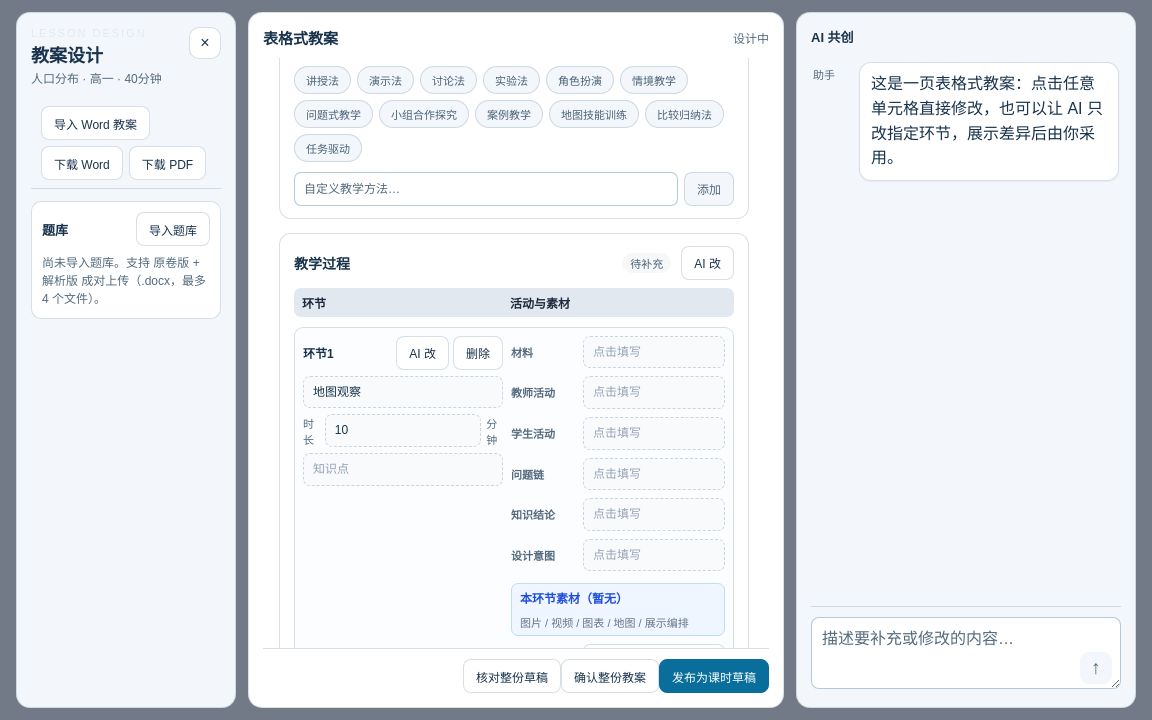
LessonDesignWorkspace（一页表格式教案） › discards the AI preview without writing or restoring the draft
(page scrolled)
Click the button with aria-label "让 AI 修改环节1": (423, 353) [396,336,449,370]
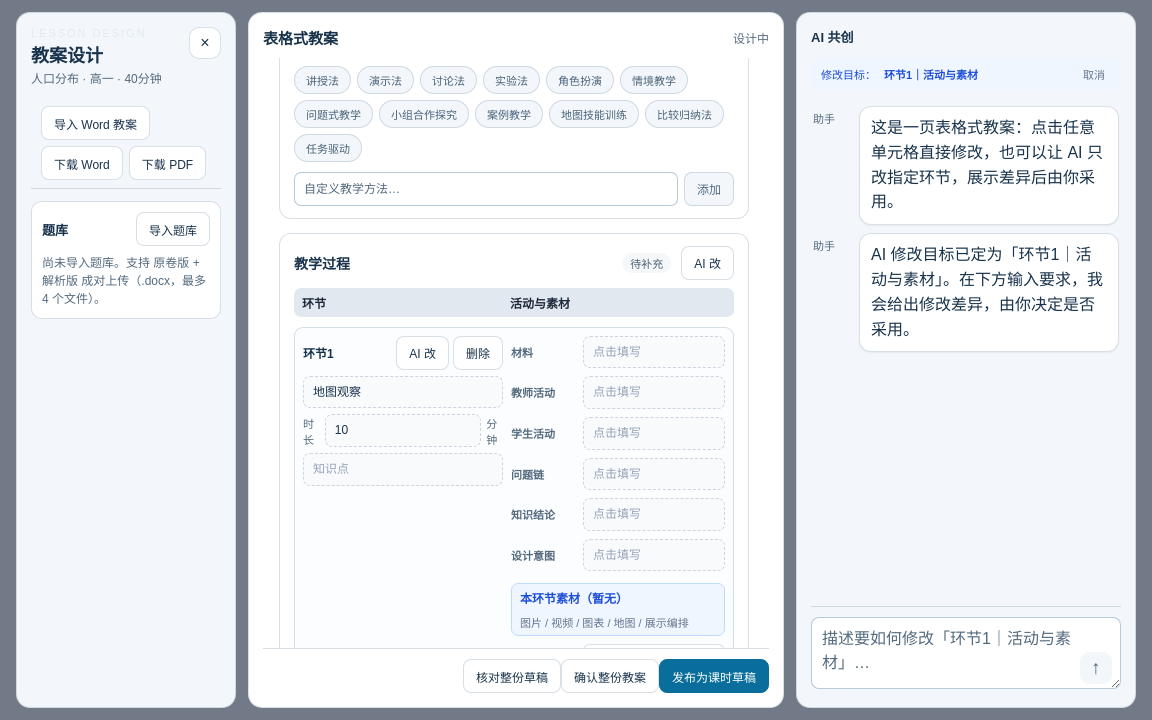
In the text box named "教案设计对话输入": (966, 653) [811,617,1121,689], type "随便加个材料"
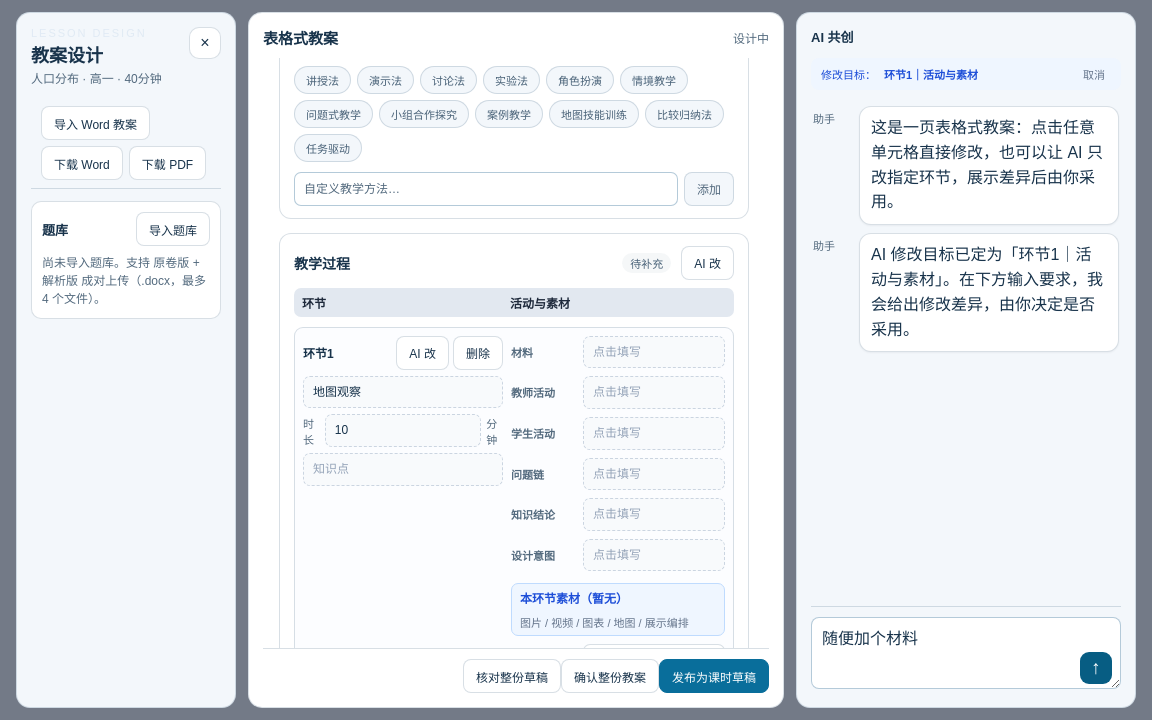
Click the button with test id "ldw-send": (1096, 668) [1080,652,1112,684]
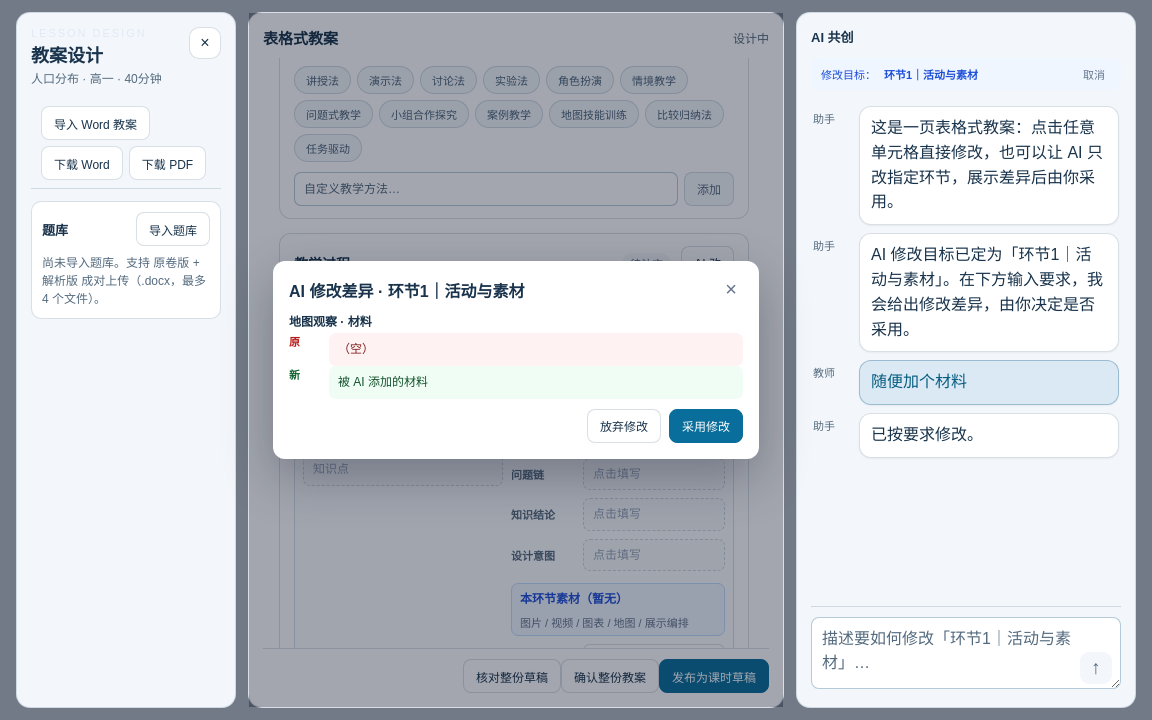
Expected: the dialog with test id "ldw-diff-modal" is shown, [249,13,783,707]
Click the button with test id "ldw-diff-discard": (624, 426) [587,409,661,443]
(page scrolled)
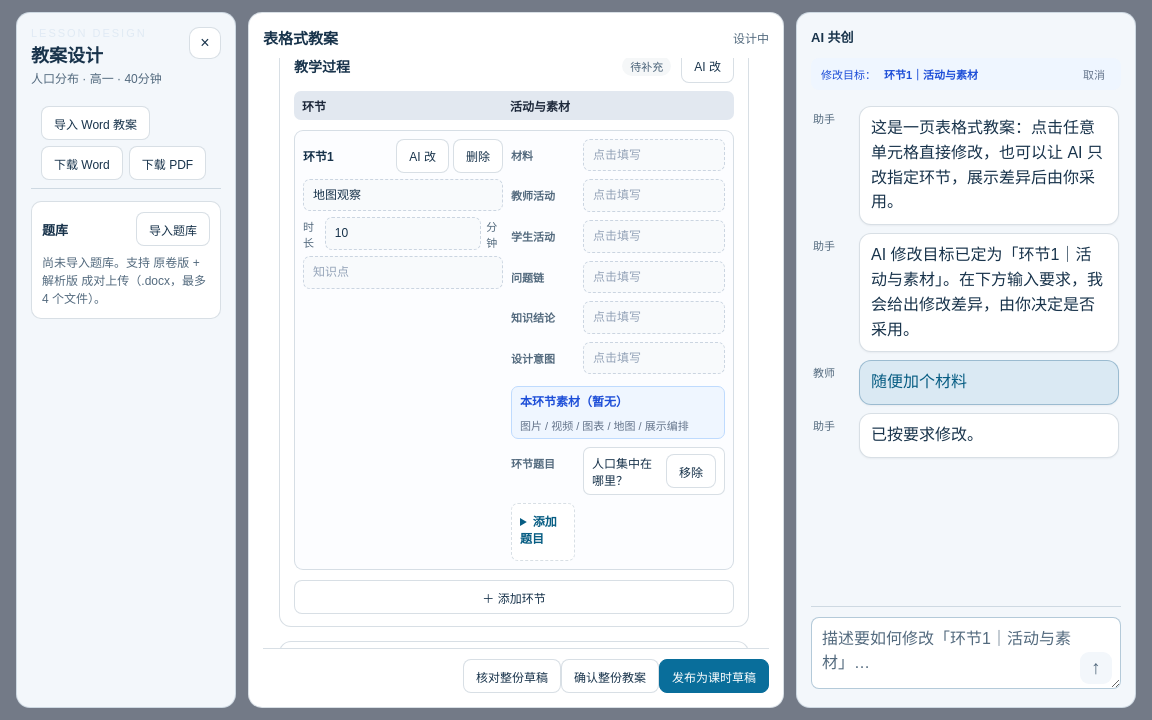
Expected: the element with test id "ldw-process-table" no longer shows "被 AI 添加的材料", [294,91,734,614]
